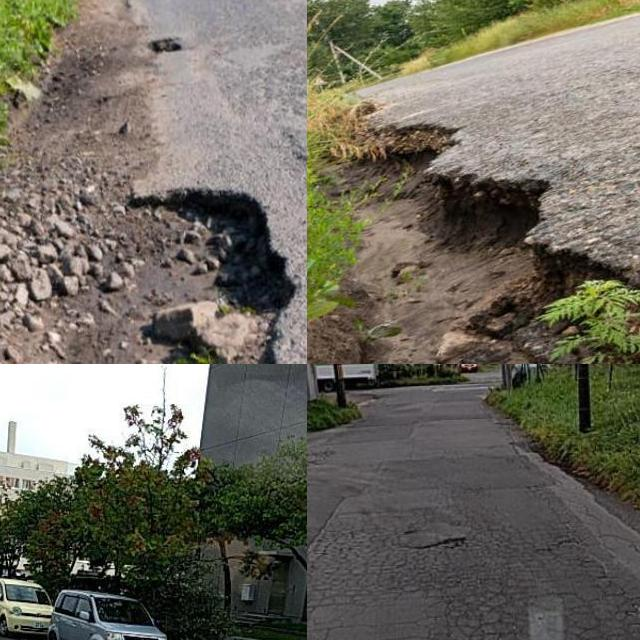Pinggir: (333, 95, 640, 364), (94, 170, 307, 364)
Retak Buaya: (446, 529, 640, 640), (307, 535, 398, 640)
